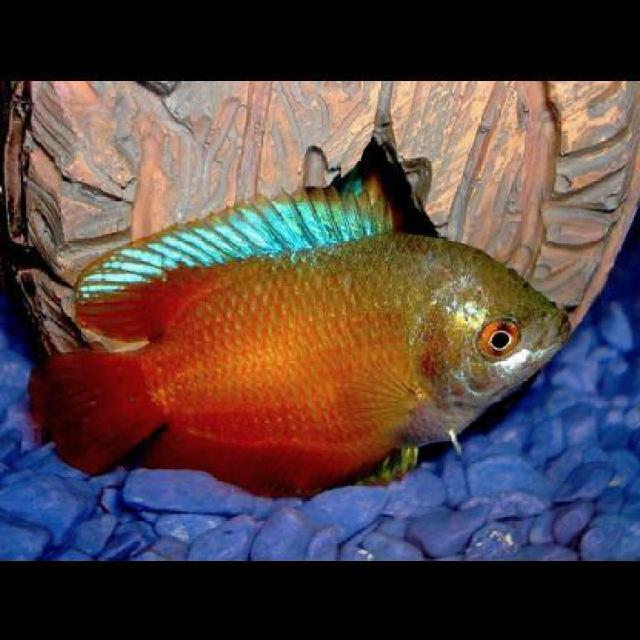Gourami: (26, 168, 574, 500)
